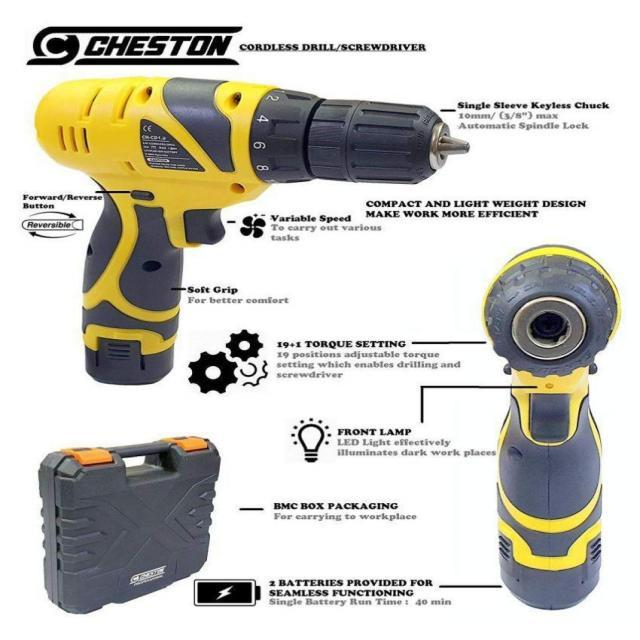drill: (34, 76, 472, 387), (480, 243, 622, 612)
